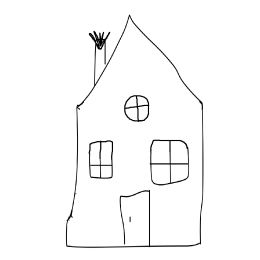closed_window: (144, 133, 194, 190), (85, 135, 116, 188), (119, 88, 153, 129)
door: (115, 186, 156, 252)
single_line_roof: (57, 11, 214, 109)
smoking_chimney: (81, 21, 115, 84)
wall: (61, 102, 213, 253)
